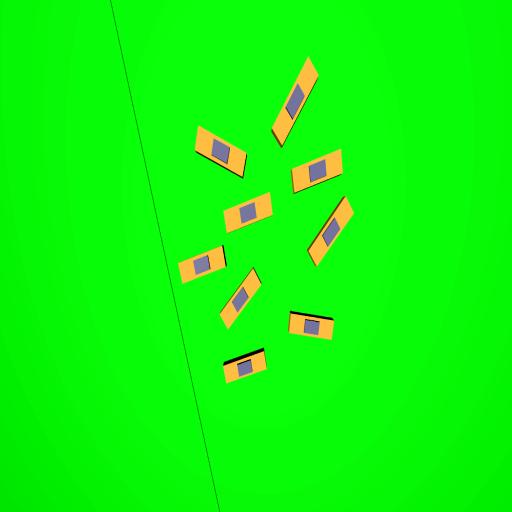objects: (267, 57, 324, 146), (303, 196, 359, 266), (186, 124, 255, 179), (216, 269, 265, 328), (286, 149, 349, 193), (219, 193, 277, 233), (174, 244, 230, 284), (220, 351, 270, 383), (287, 313, 336, 342)
